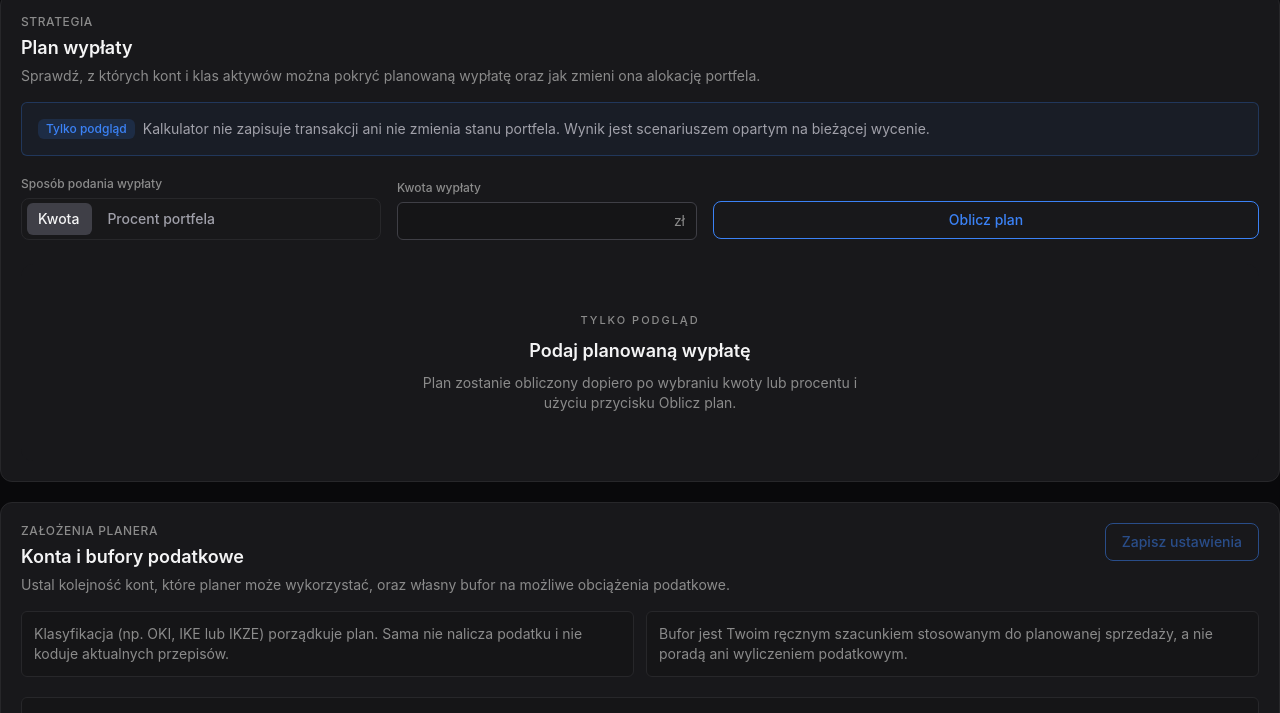
Test: PortfolioWithdrawalPlannerSection › clears a calculated result while settings are dirty and keeps it empty after saving
Type "10000" into the field labelled "Kwota wypłaty".
click(547, 221); type("10000")  # box [397,202,697,240]
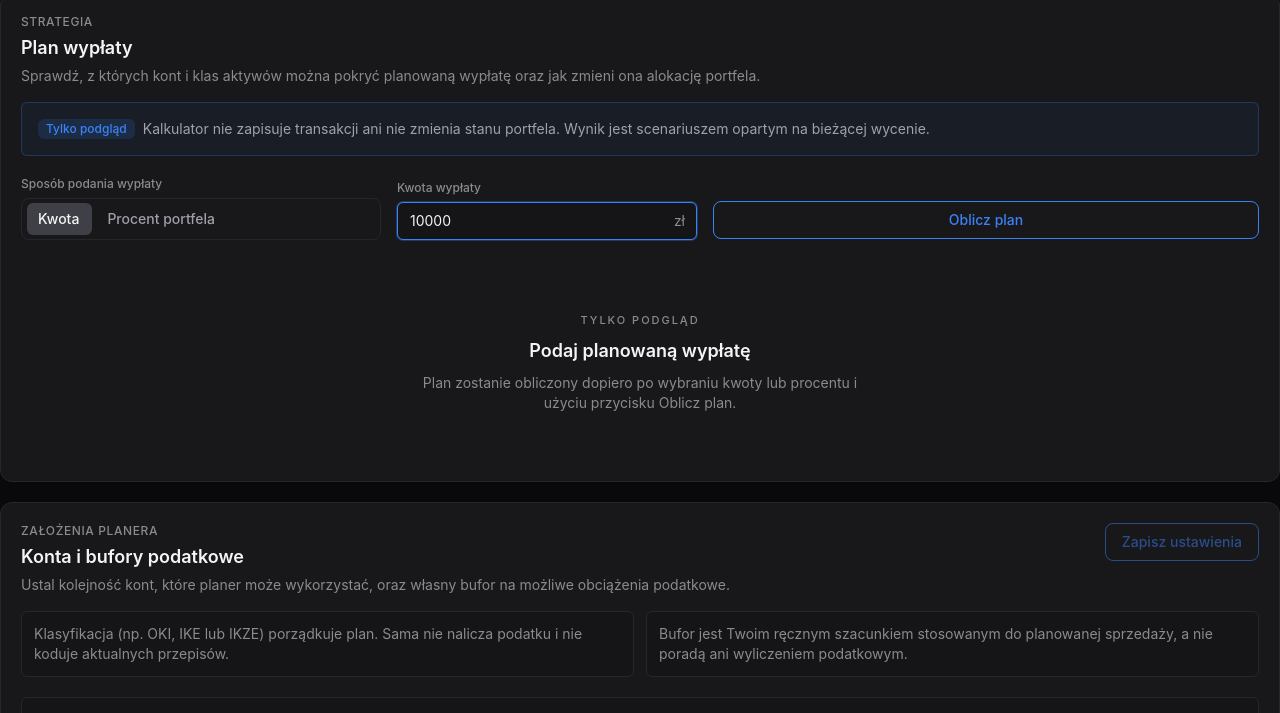
Click the button "Oblicz plan".
click(986, 220)  # box [713,201,1259,239]
(page scrolled)
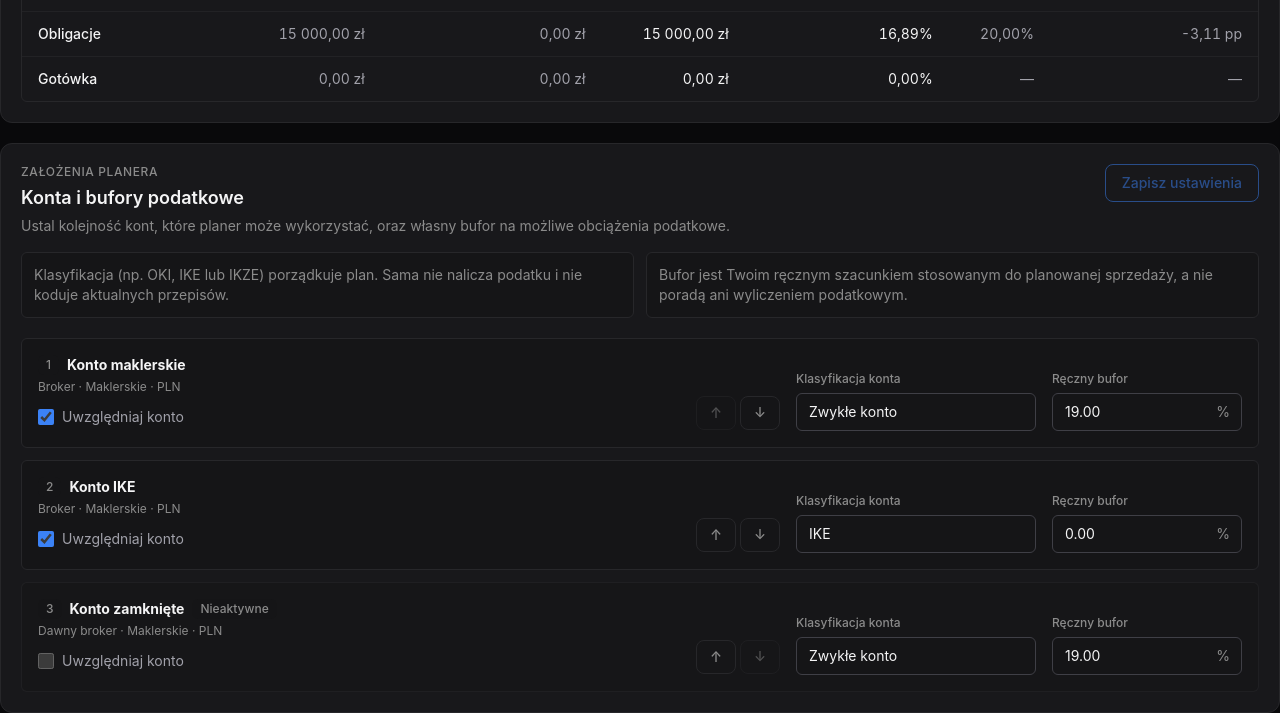
Select "OKI" in the 2nd dropdown labelled "Klasyfikacja konta" at {"x": 916, "y": 534}, box [796,515,1036,553]
(page scrolled)
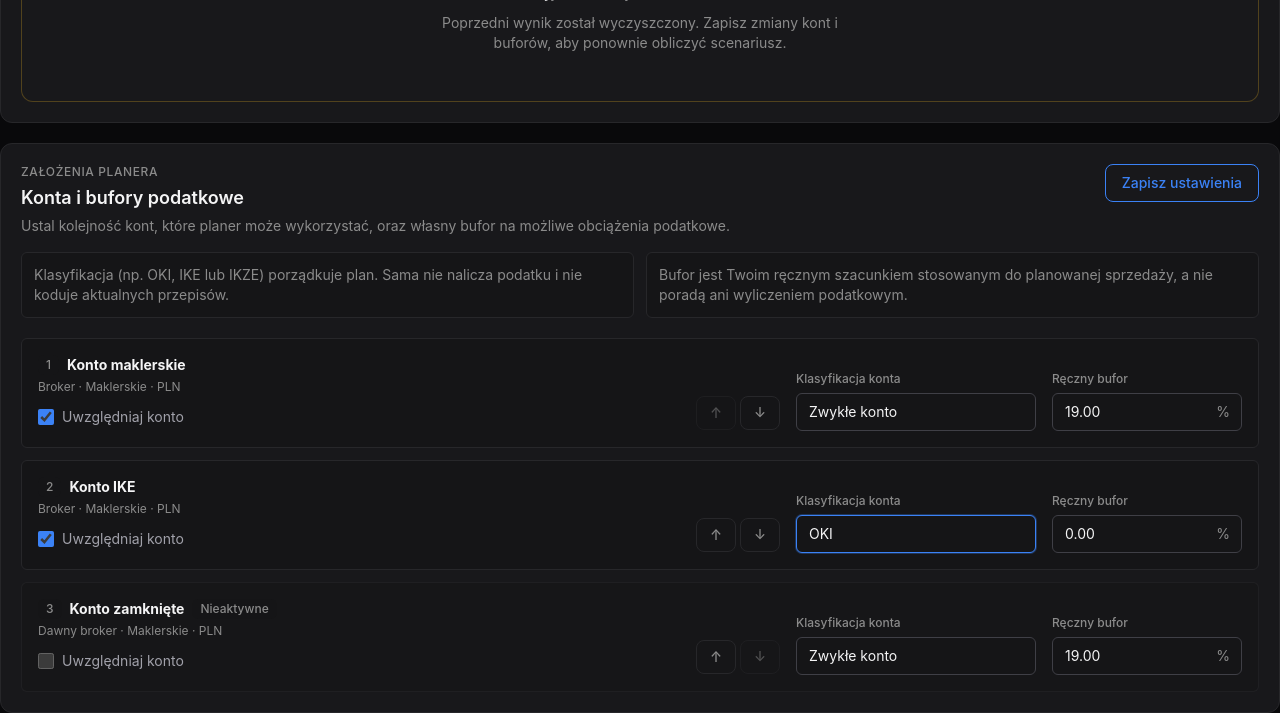
Now the text "Poprzedni wynik został wyczyszczony" is shown, box [442,14,838,50]
Click the button "Zapisz ustawienia".
click(1182, 182)  # box [1105,164,1259,202]
(page scrolled)
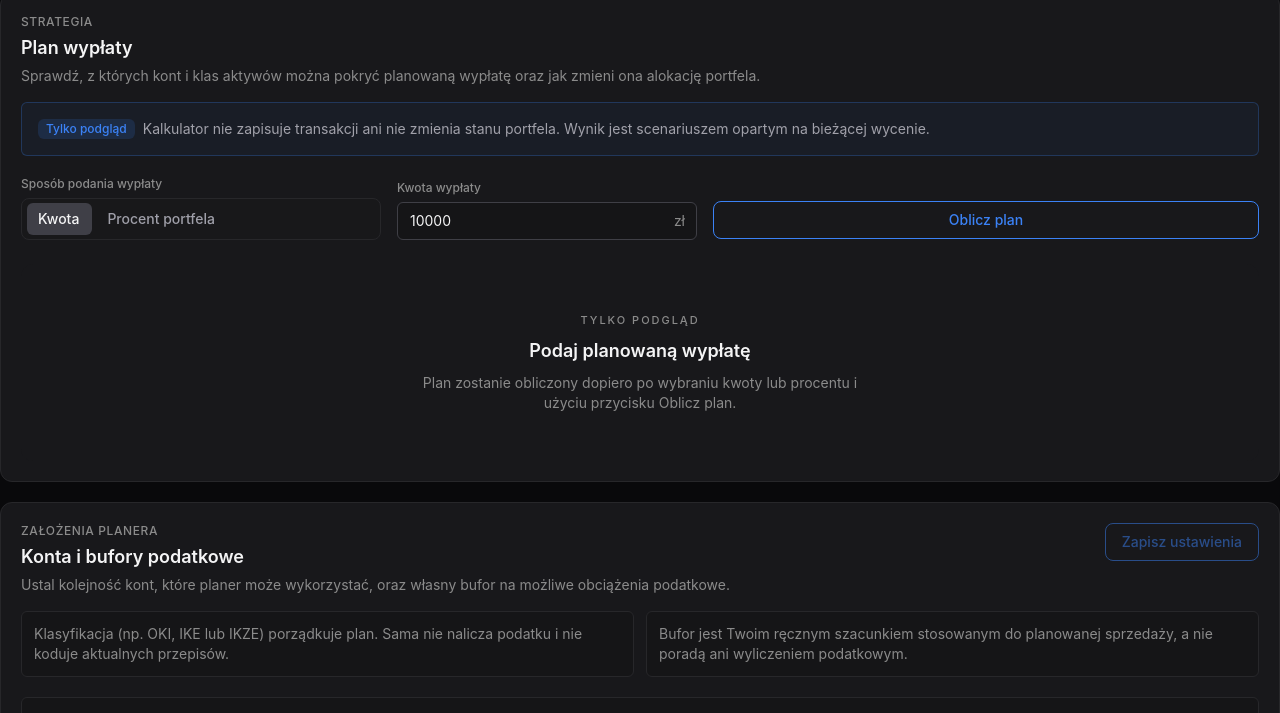
Now the heading "Podaj planowaną wypłatę" is shown, box [529,336,751,364]
Now the button "Oblicz plan" is enabled, box [713,201,1259,239]
